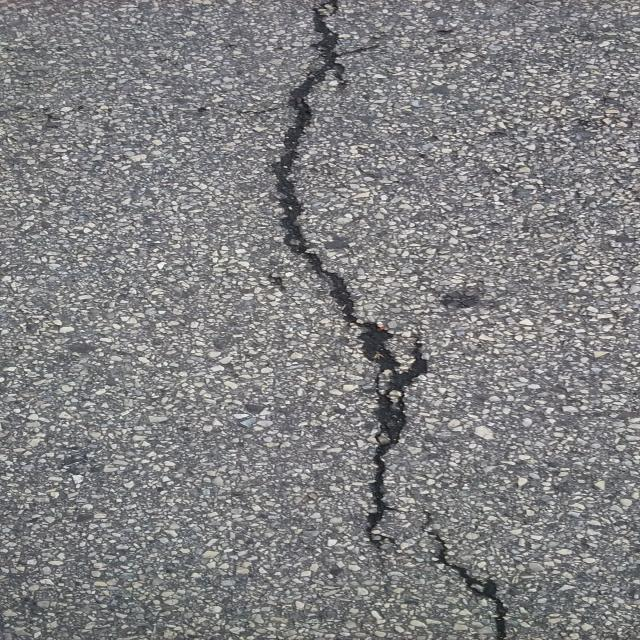Longitudial: (242, 0, 545, 640)
